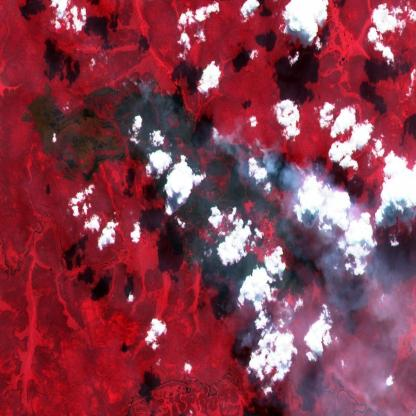fire: (234, 138, 288, 175), (197, 108, 242, 151), (115, 72, 167, 108)
